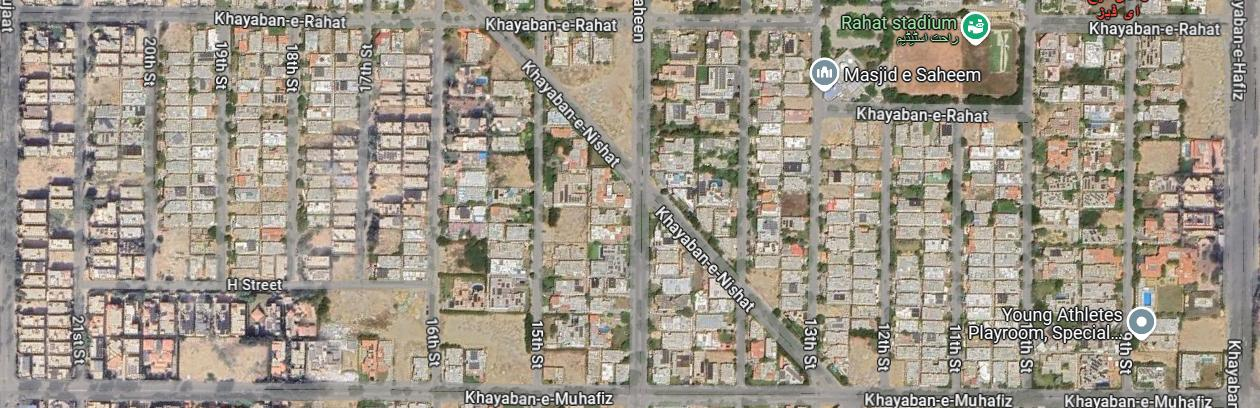Buildings: (1133, 27, 1231, 388), (443, 28, 533, 385), (1034, 31, 1123, 388), (85, 287, 433, 378), (651, 216, 810, 386), (543, 95, 633, 387), (649, 29, 743, 271), (743, 29, 814, 339), (823, 0, 1026, 106), (18, 24, 75, 377), (960, 121, 1023, 388), (820, 118, 883, 385), (367, 27, 433, 278), (86, 24, 146, 281), (229, 22, 288, 282), (894, 123, 952, 384), (300, 30, 361, 277), (156, 24, 214, 279), (543, 23, 636, 162)
